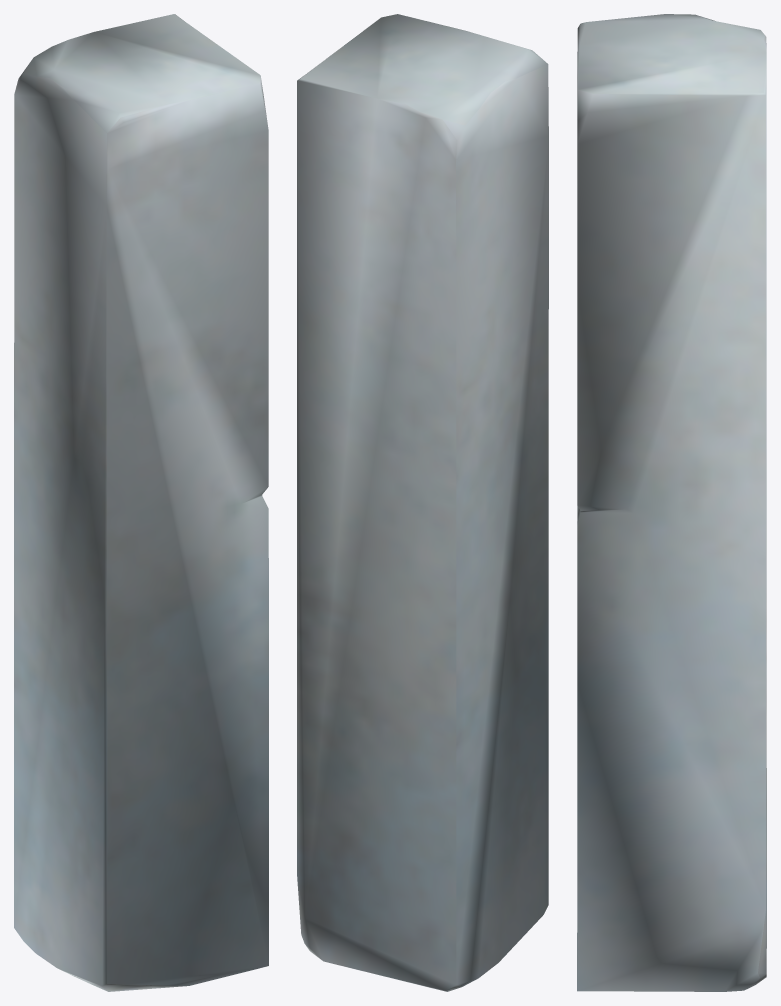
The model's file is P_CubicCliffPiece13.obj.
3 renders of one model, left to right at view 1: azimuth 30°, elevation 25°; view 2: azimuth 150°, elevation 25°; view 3: azimuth 270°, elevation 25°, orthographic. The views are drawn at different scales.
Size of the model in its own units: 8.97 by 46.87 by 8.97.
